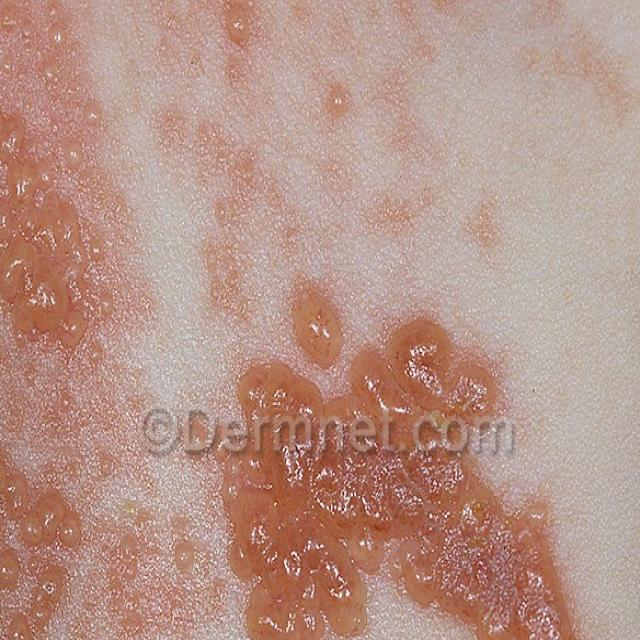Viral Infections: (196, 239, 640, 640), (0, 8, 132, 366), (0, 430, 132, 640)
